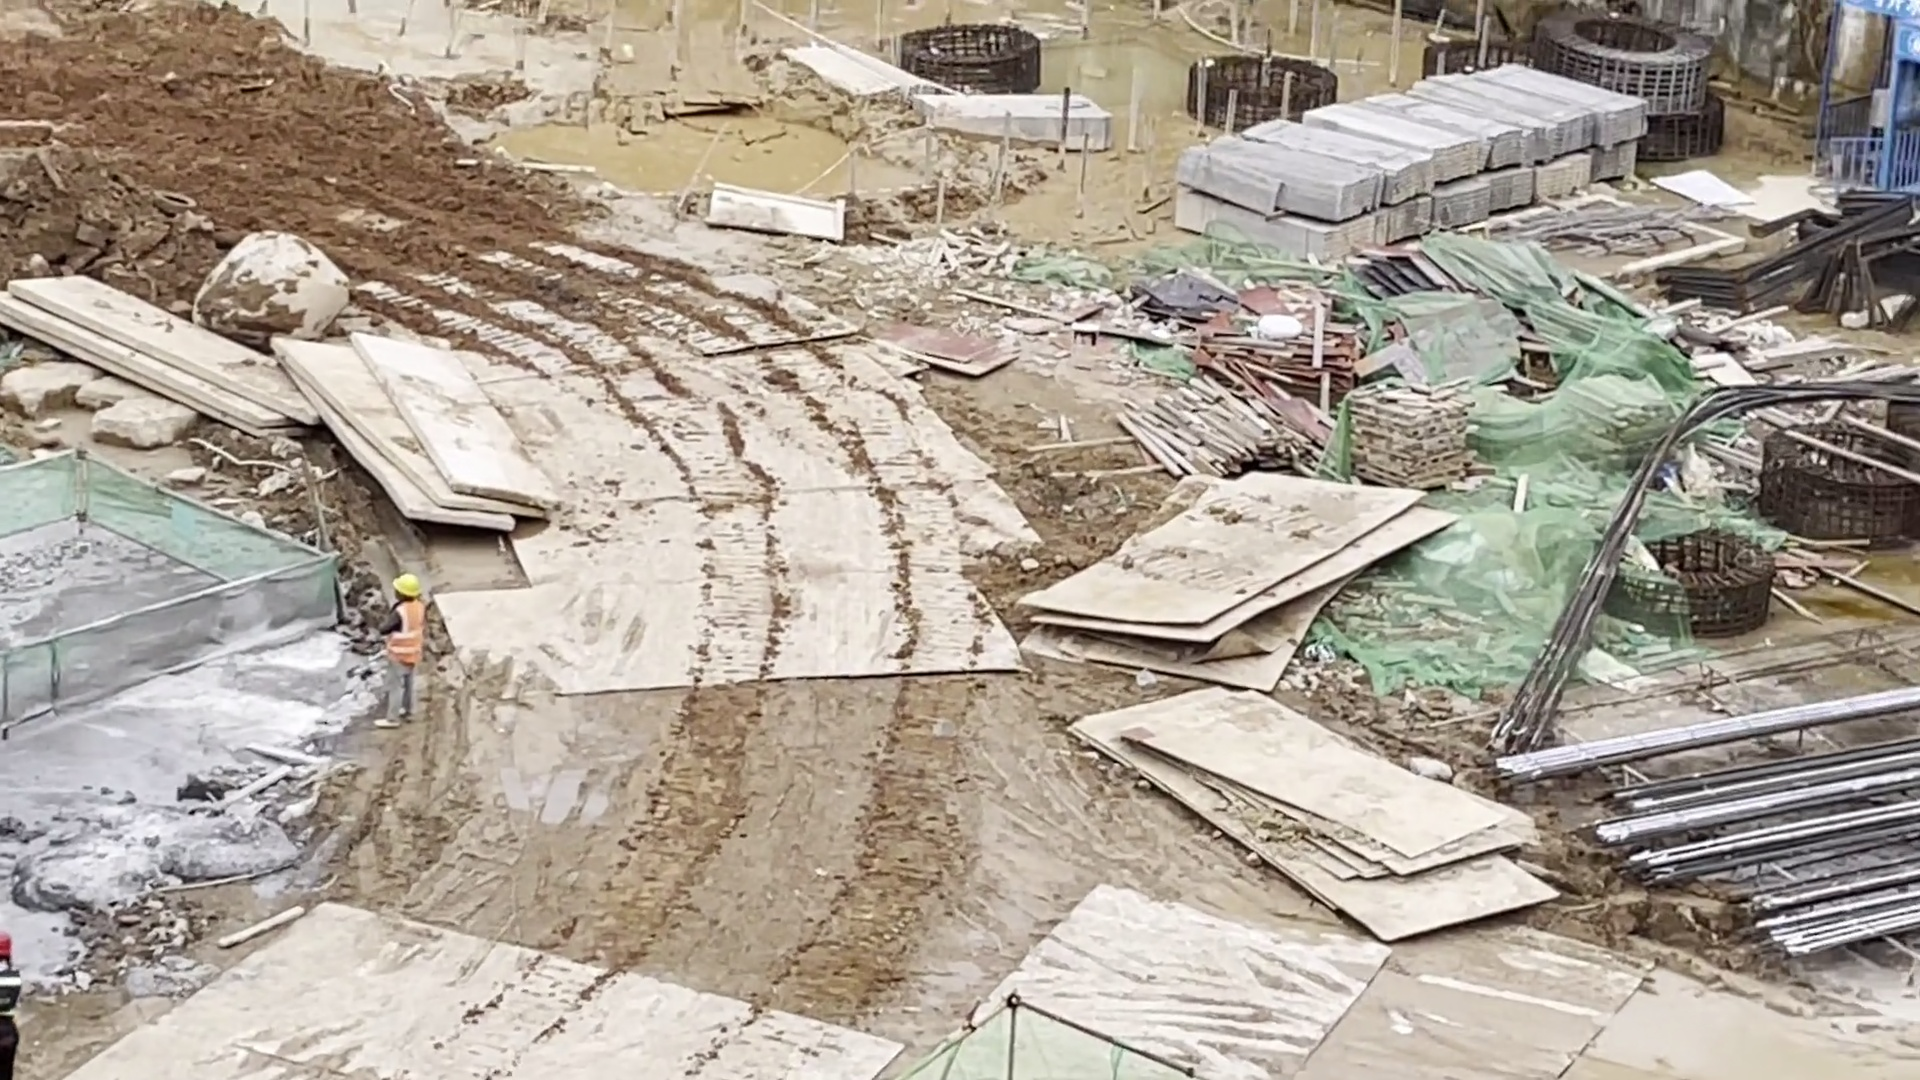helmet: (396, 572, 421, 600), (1, 937, 18, 959)
person: (374, 571, 429, 731), (1, 931, 33, 1077)
vest: (378, 605, 422, 671), (1, 959, 19, 1019)
wood: (1181, 134, 1377, 216), (1486, 58, 1667, 145), (1166, 182, 1382, 253), (1274, 109, 1440, 191), (1312, 98, 1485, 174), (1433, 67, 1586, 152), (1393, 87, 1532, 163), (1438, 179, 1499, 227), (1585, 138, 1641, 183), (1380, 191, 1430, 237), (1540, 157, 1592, 193), (1491, 171, 1544, 204)
